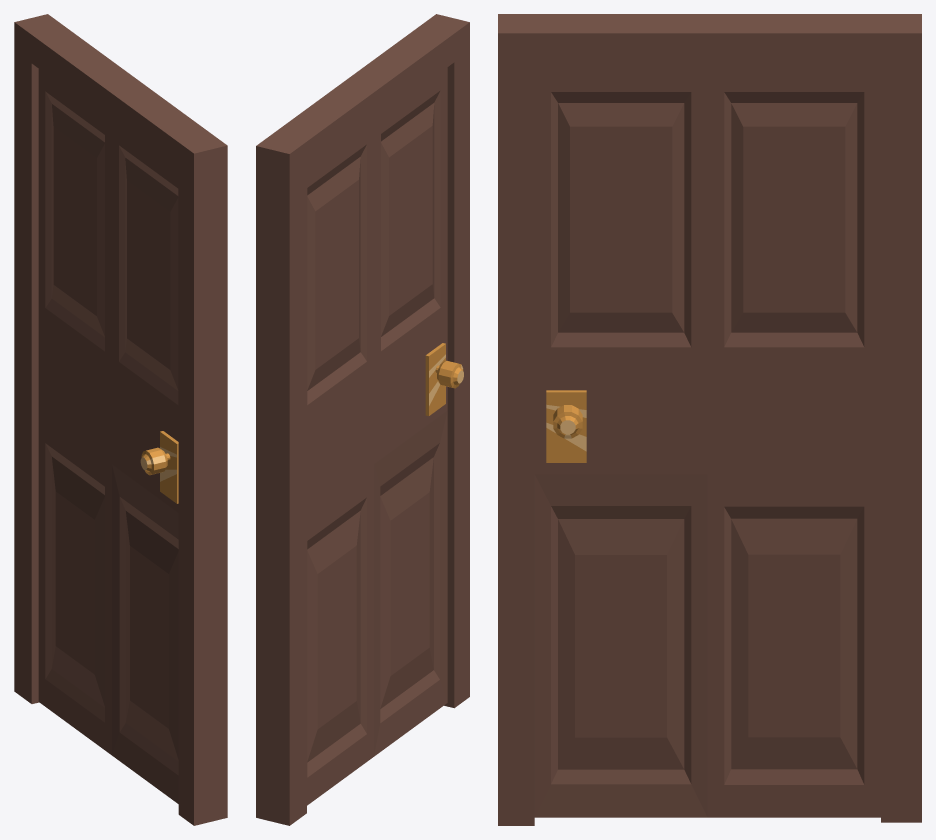
3 views of the same model, side by side, from view 1: azimuth 30°, elevation 25°; view 2: azimuth 150°, elevation 25°; view 3: azimuth 270°, elevation 25° (orthographic). The views are drawn at different scales.
Visible parts, largest first — view 1: group_1559002970, mesh_1708765680; view 2: group_1559002970, mesh_1708765680; view 3: group_1559002970, mesh_1708765680.
Boxes of the visible parts, x1,y1,x2,y2 form: group_1559002970: (38, 69, 178, 803); mesh_1708765680: (14, 14, 227, 825); group_1559002970: (307, 67, 463, 805); mesh_1708765680: (256, 14, 469, 825); group_1559002970: (534, 67, 880, 817); mesh_1708765680: (498, 14, 921, 825).
Size of the model in its own units: 21.87 by 192 by 93.
